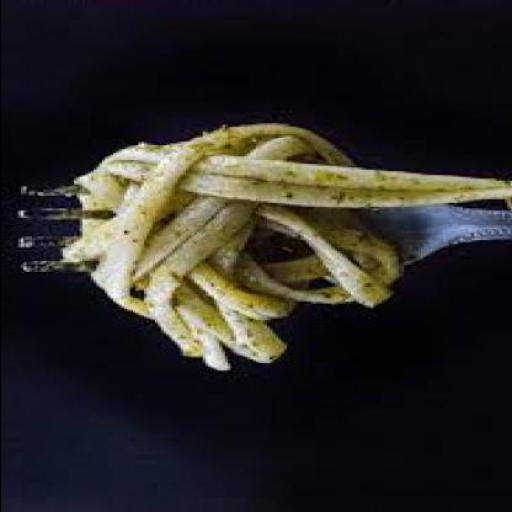biodegradable: (90, 130, 244, 320), (140, 200, 282, 374), (93, 156, 509, 205), (246, 209, 403, 313), (182, 210, 291, 324), (159, 127, 344, 170), (56, 168, 120, 257), (234, 257, 330, 307)
metal: (350, 207, 510, 266), (10, 187, 106, 275)
